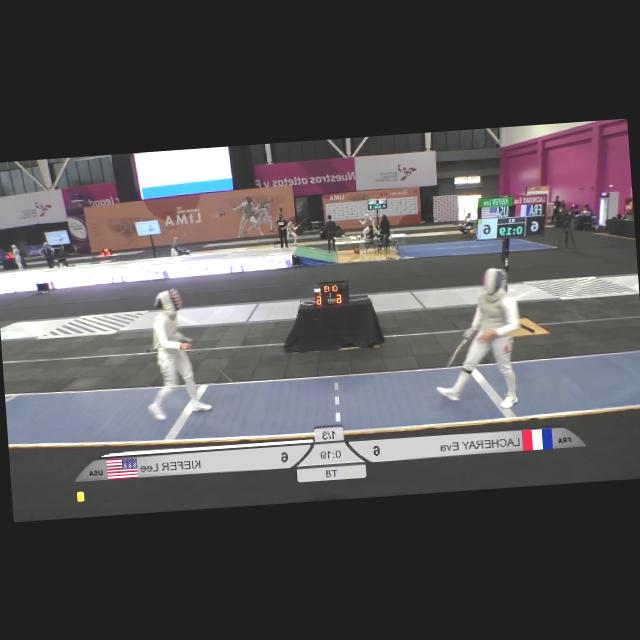blade: (185, 332, 242, 399), (442, 330, 474, 373)
